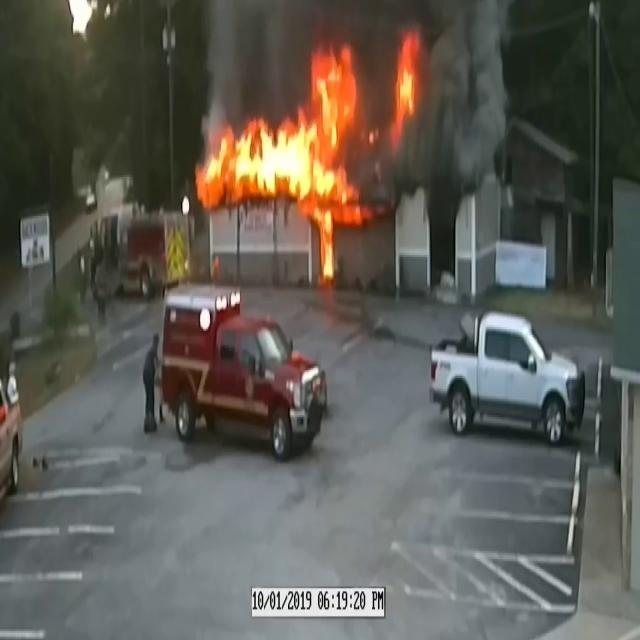Fire: (198, 43, 367, 241), (391, 19, 421, 134)
Smoke: (370, 1, 518, 200)
